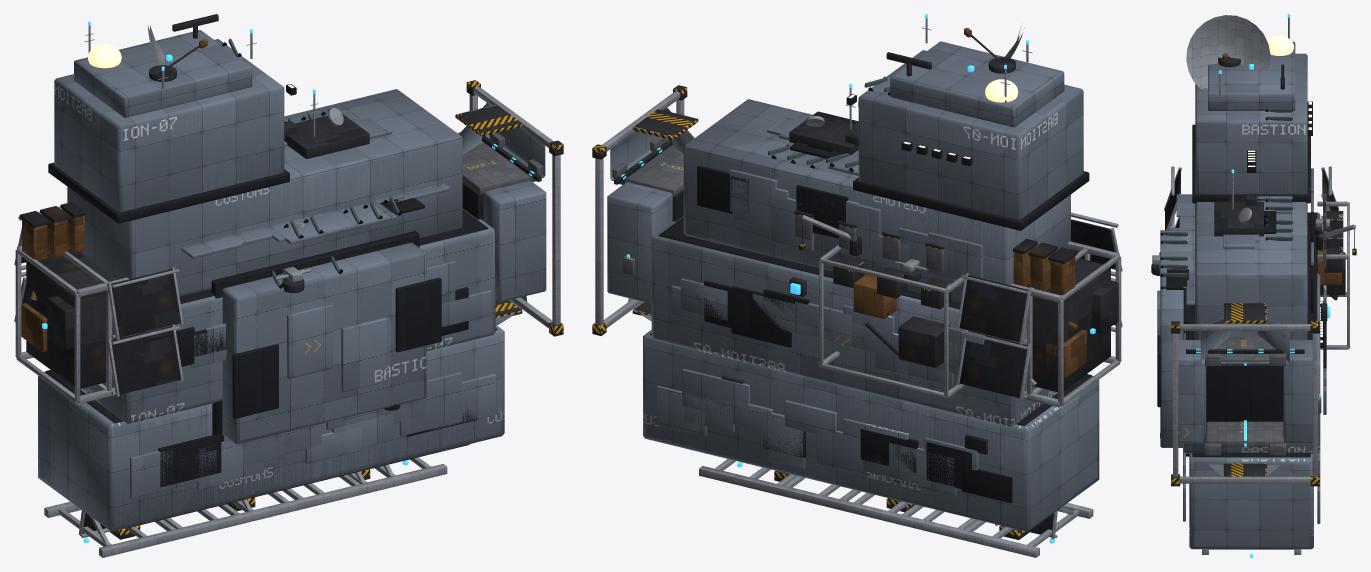
Rendered from place_station_military.glb.
The picture shows the model from 3 angles, left to right: view 1: azimuth 30°, elevation 25°; view 2: azimuth 150°, elevation 25°; view 3: azimuth 270°, elevation 25°; orthographic projection. The views are drawn at different scales.
Visible parts, largest first — view 1: LOD0_Station_Material_Hull, LOD1_Station_Material_Hull, LOD2_Station_Material_Hull, LOD0_Station_Material_Blast, LOD0_Station_Material_Alloy, LOD0_Station_Material_Machinery, LOD1_Station_Material_Alloy, LOD1_Station_Material_Blast, LOD0_Station_Material_Radiator, LOD2_Station_Material_Alloy, LOD2_Station_Material_Blast, LOD1_Station_Material_Machinery (+13 smaller); view 2: LOD0_Station_Material_Hull, LOD1_Station_Material_Hull, LOD2_Station_Material_Hull, LOD0_Station_Material_Blast, LOD0_Station_Material_Alloy, LOD0_Station_Material_Machinery, LOD1_Station_Material_Alloy, LOD2_Station_Material_Alloy, LOD1_Station_Material_Machinery, LOD1_Station_Material_Radiator, LOD0_Station_Material_Radiator, LOD0_Station_Material_Warm (+14 smaller); view 3: LOD0_Station_Material_Hull, LOD2_Station_Material_Hull, LOD1_Station_Material_Hull, LOD0_Station_Material_Blast, LOD2_Station_Material_Alloy, LOD0_Station_Material_Alloy, LOD1_Station_Material_Alloy, LOD0_Station_Material_Dock, LOD0_Station_Material_Machinery, LOD1_Station_Material_Blast, LOD2_Station_Material_Dock, LOD1_Station_Material_Machinery (+9 smaller).
Boxes of the visible parts, x1,y1,x2,y2 form: LOD0_Station_Material_Hull: [40, 31, 544, 525]; LOD1_Station_Material_Hull: [39, 30, 546, 530]; LOD2_Station_Material_Hull: [38, 30, 546, 531]; LOD0_Station_Material_Blast: [47, 84, 483, 487]; LOD0_Station_Material_Alloy: [14, 25, 559, 553]; LOD0_Station_Material_Machinery: [19, 14, 540, 410]; LOD1_Station_Material_Alloy: [14, 27, 560, 557]; LOD1_Station_Material_Blast: [46, 163, 496, 528]; LOD0_Station_Material_Radiator: [21, 256, 180, 533]; LOD2_Station_Material_Alloy: [15, 25, 555, 557]; LOD2_Station_Material_Blast: [45, 162, 497, 528]; LOD1_Station_Material_Machinery: [26, 14, 541, 407]; LOD0_Station_Material_Hull: [609, 42, 1097, 499]; LOD1_Station_Material_Hull: [607, 42, 1096, 530]; LOD2_Station_Material_Hull: [607, 41, 1099, 531]; LOD0_Station_Material_Blast: [672, 94, 1088, 503]; LOD0_Station_Material_Alloy: [595, 18, 1122, 557]; LOD0_Station_Material_Machinery: [614, 34, 1118, 453]; LOD1_Station_Material_Alloy: [595, 18, 1122, 557]; LOD2_Station_Material_Alloy: [595, 26, 1120, 557]; LOD1_Station_Material_Machinery: [614, 35, 1118, 454]; LOD1_Station_Material_Radiator: [960, 219, 1115, 397]; LOD0_Station_Material_Radiator: [960, 221, 1112, 537]; LOD0_Station_Material_Warm: [855, 28, 1086, 375]; LOD0_Station_Material_Hull: [1157, 52, 1326, 545]; LOD2_Station_Material_Hull: [1160, 41, 1320, 549]; LOD1_Station_Material_Hull: [1157, 42, 1326, 548]; LOD0_Station_Material_Blast: [1157, 101, 1326, 455]; LOD2_Station_Material_Alloy: [1152, 19, 1355, 554]; LOD0_Station_Material_Alloy: [1153, 15, 1353, 554]; LOD1_Station_Material_Alloy: [1153, 17, 1355, 554]; LOD0_Station_Material_Dock: [1205, 190, 1326, 455]; LOD0_Station_Material_Machinery: [1151, 57, 1354, 437]; LOD1_Station_Material_Blast: [1184, 108, 1323, 456]; LOD2_Station_Material_Dock: [1205, 187, 1326, 455]; LOD1_Station_Material_Machinery: [1157, 56, 1345, 353].
Size of the model in its own units: 74.45 by 76.68 by 32.95.
12 materials, 12 textured.
